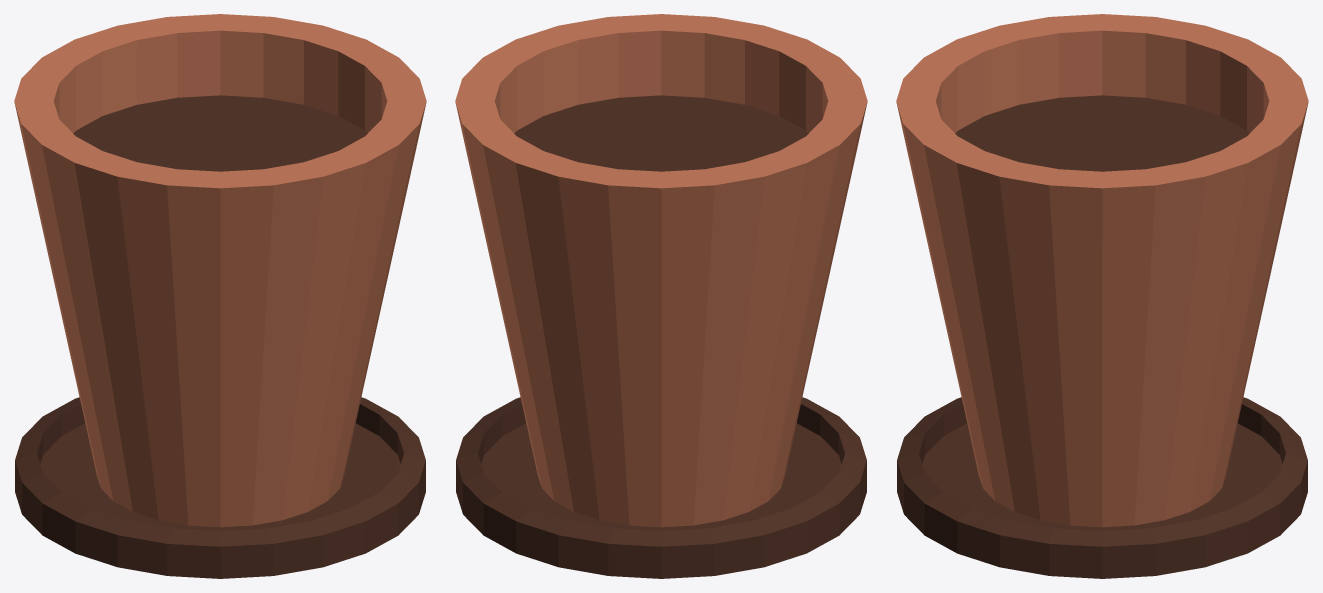
The model's file is pot.fbx.
3 views of the same model, side by side, from view 1: azimuth 30°, elevation 25°; view 2: azimuth 150°, elevation 25°; view 3: azimuth 270°, elevation 25° (orthographic).
Visible parts, largest first — view 1: Cylinder; view 2: Cylinder; view 3: Cylinder.
Part boxes in pixels (left/top/right/bottom): Cylinder: left=14, top=14, right=426, bottom=578; Cylinder: left=455, top=14, right=867, bottom=578; Cylinder: left=896, top=14, right=1308, bottom=578.
Bounding box in the file's own units: 200 × 209 × 200.
Materials: 1 (1 with a texture image).
